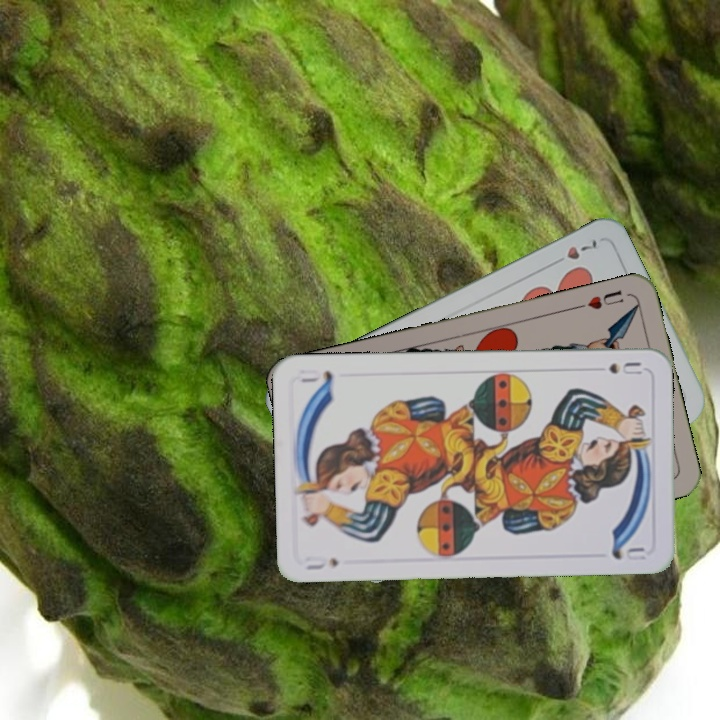H7: (547, 235, 600, 268)
HU: (572, 286, 626, 312)
SU: (301, 552, 342, 573), (605, 358, 644, 377)
